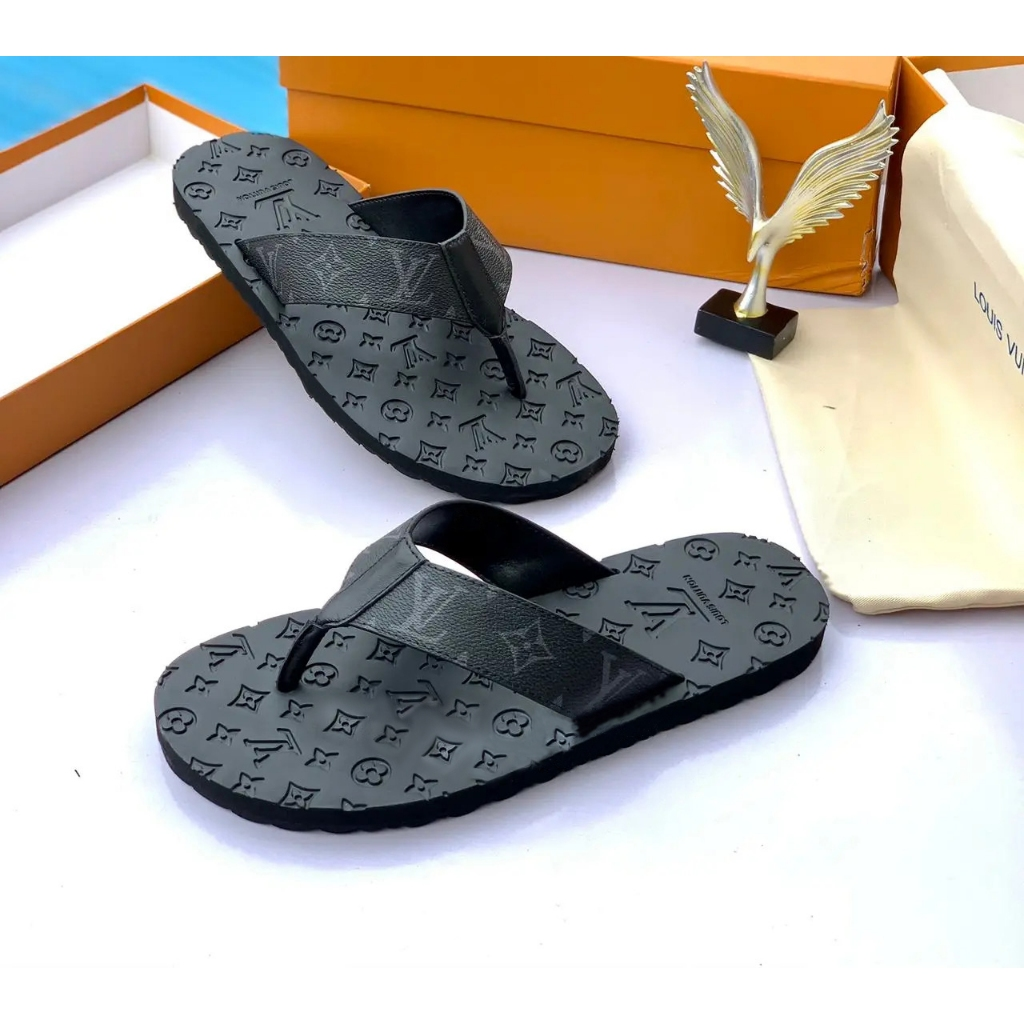flip_flops: (151, 500, 830, 837), (170, 131, 619, 502)
